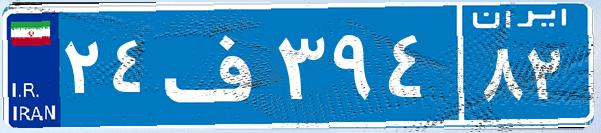2: (57, 26, 110, 107), (525, 38, 570, 115)
3: (273, 28, 330, 110)
4: (385, 28, 445, 110), (110, 28, 158, 105)
8: (475, 38, 525, 113)
9: (330, 28, 385, 110)
ف: (158, 15, 273, 115)
